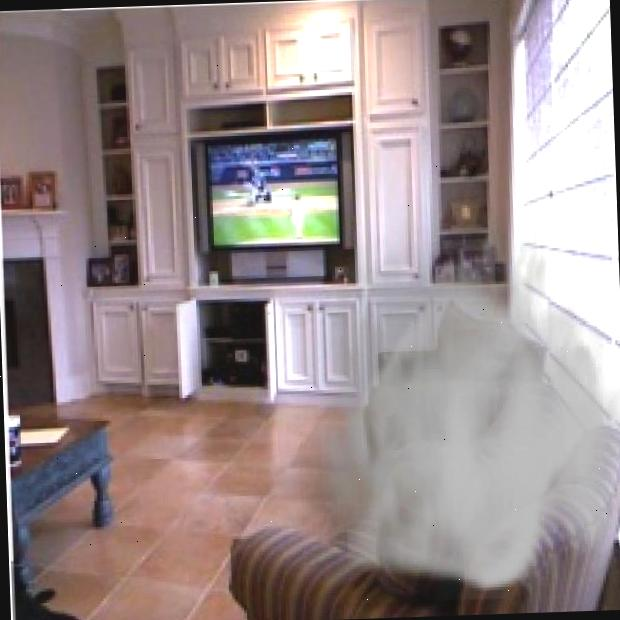smoke: (356, 336, 607, 610)
